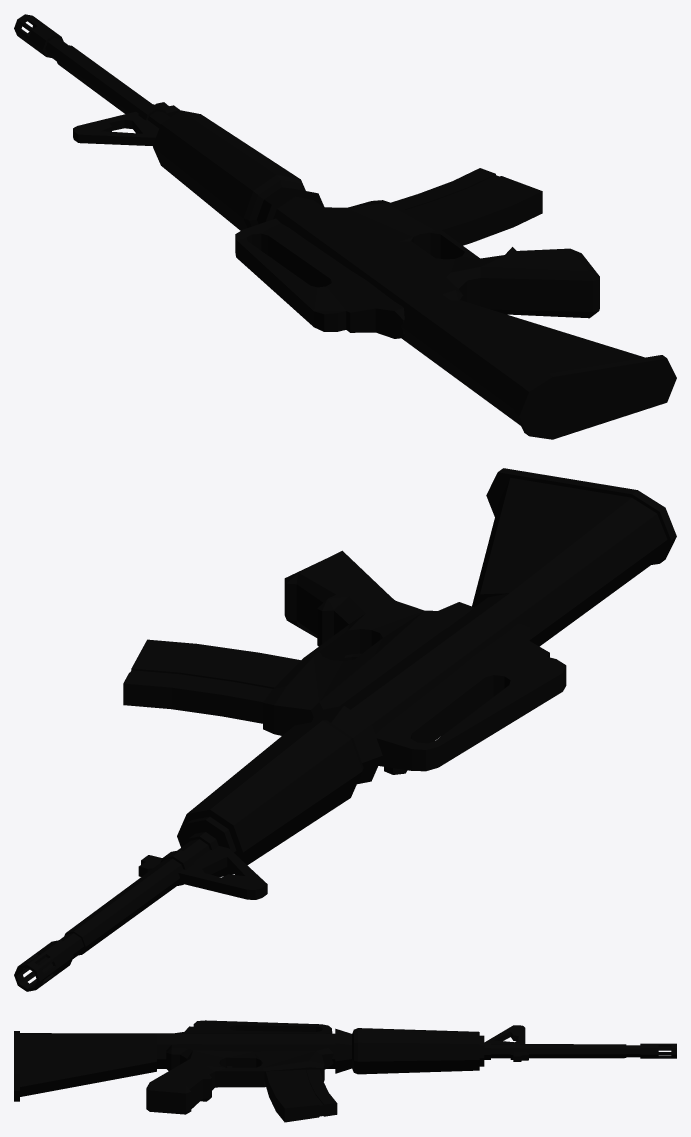
The model's file is scene_uNTA3y6Ikr.glb.
3 views of the same model, one above another, from view 1: azimuth 30°, elevation 25°; view 2: azimuth 150°, elevation 25°; view 3: azimuth 270°, elevation 25° (orthographic). The views are drawn at different scales.
Parts seen in each view (by area): view 1: M16; view 2: M16; view 3: M16.
Part boxes in pixels (x1=…): M16: x1=14, y1=14, x2=676, y2=439; M16: x1=14, y1=468, x2=676, y2=991; M16: x1=14, y1=1020, x2=676, y2=1122.
Bounding box in the file's own units: 0.6256 × 0.1451 × 1.95.
Materials: 1 (1 with a texture image).
